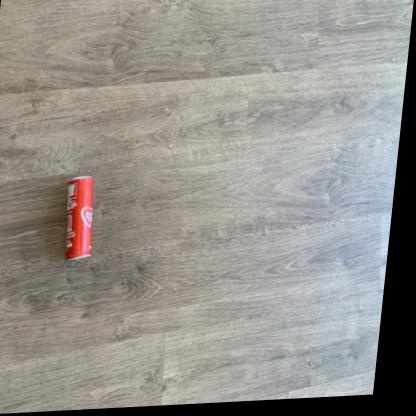trash: (65, 176, 94, 258)
